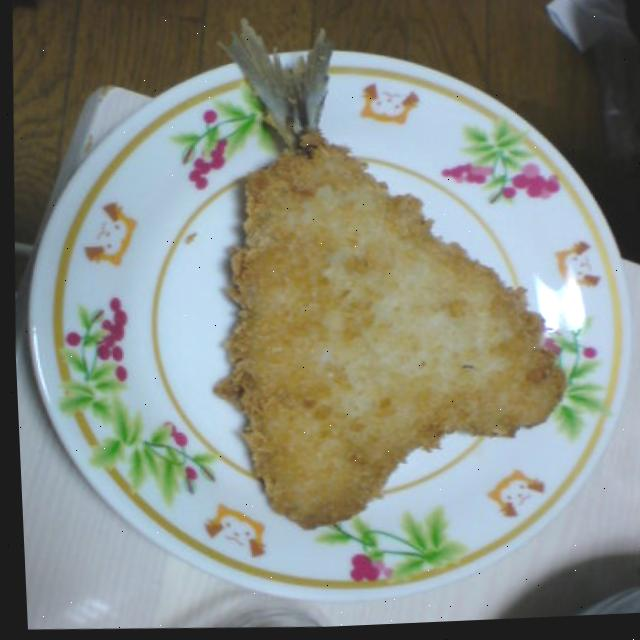炸货点心: (192, 2, 591, 551)
熟制海鲜: (192, 2, 591, 551)
